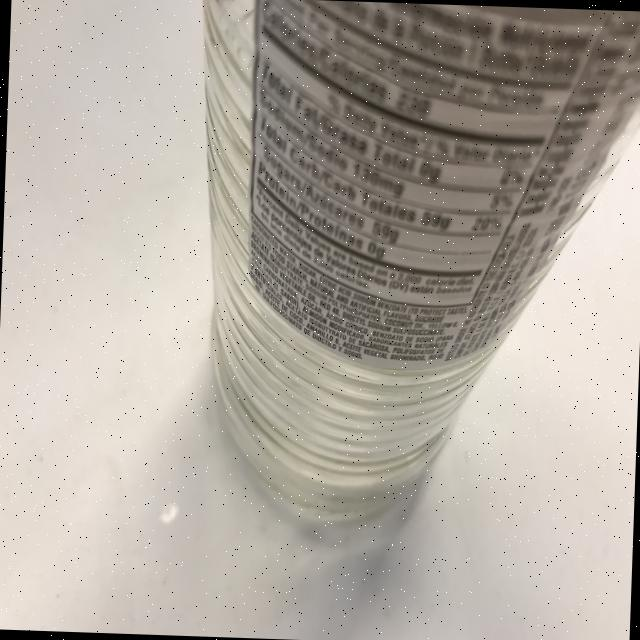glass: (157, 0, 640, 576)
